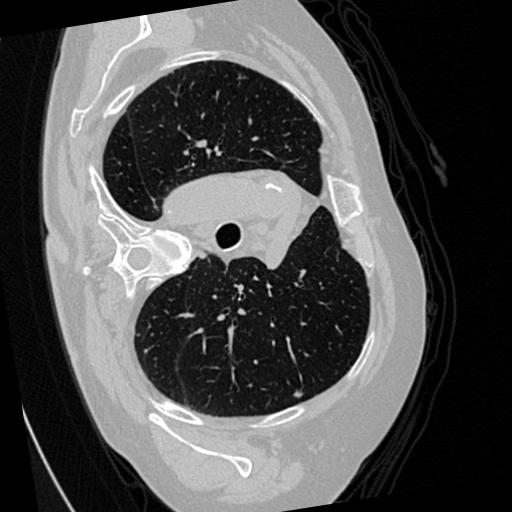nodule: (292, 388, 307, 403)
